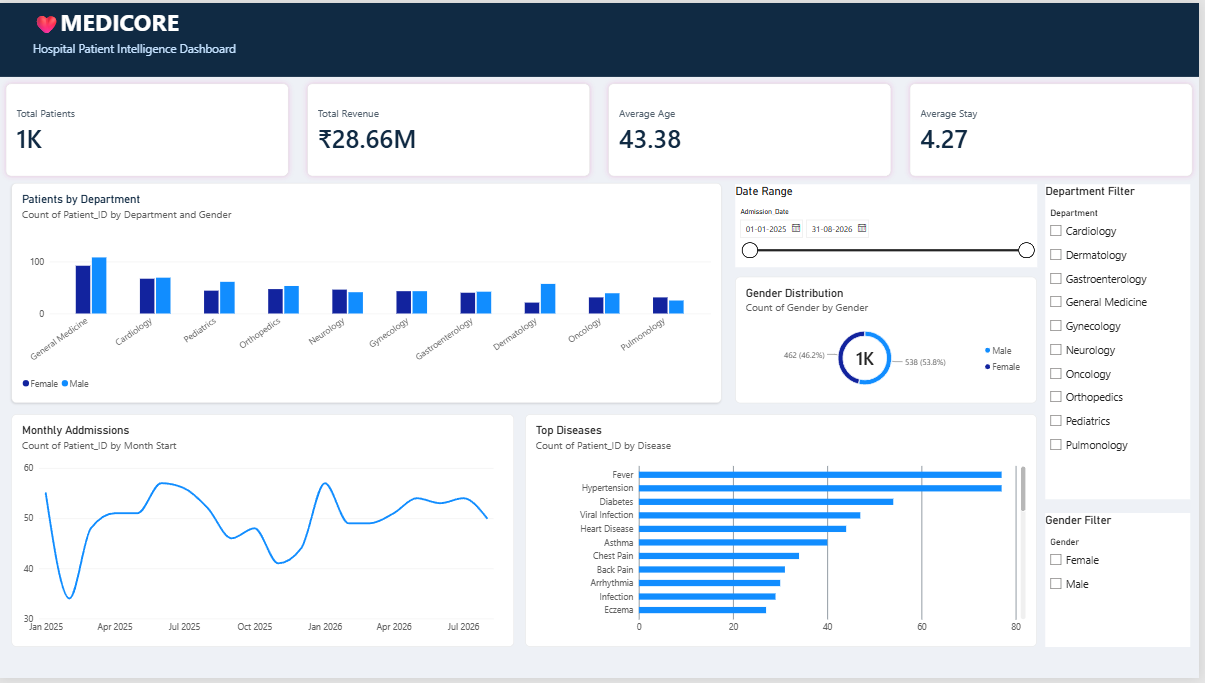

The dashboard page shown, as its layout file describes it:
{"tool":"powerbi","page":{"name":"Page 1","canvas":[1920,1080],"ordinal":0},"visuals":[{"type":"cardVisual","fields":{"Data":["Patients.Total Patients","Patients.Total Revenue","Patients.Average Age","Patients.Average Stay"]},"box":[0,118,1920,170],"z":0},{"type":"clusteredColumnChart","title":"Patients by Department","fields":{"Category":["Patients.Department"],"Series":["Patients.Gender"],"Y":["CountNonNull(Patients.Patient_ID)"]},"box":[20,288,1136,352],"z":1000},{"type":"donutChart","title":"Gender Distribution","fields":{"Category":["Patients.Gender"],"Y":["CountNonNull(Patients.Gender)"]},"box":[1178,438,482,202],"z":2000},{"type":"lineChart","title":"Monthly Addmissions","fields":{"Category":["Patients.Month Start"],"Y":["CountNonNull(Patients.Patient_ID)"]},"box":[20,658,804,372],"z":3000},{"type":"clusteredBarChart","title":"Top Diseases","fields":{"Category":["Patients.Disease"],"Y":["CountNonNull(Patients.Patient_ID)"]},"box":[842,658,818,372],"z":4000},{"type":"slicer","title":"Department Filter","fields":{"Values":["Patients.Department"]},"box":[1674,290,232,504],"z":5000},{"type":"slicer","title":"Gender Filter","fields":{"Values":["Patients.Gender"]},"box":[1674,816,232,214],"z":6000},{"type":"slicer","title":"Date Range","fields":{"Values":["Patients.Admission_Date"]},"box":[1178,290,482,132],"z":7000},{"type":"shape","box":[0,0,1920,118],"z":8000},{"type":"textbox","box":[1754,897,166,150],"z":10000},{"type":"textbox","box":[54,4,534.5,56.4],"z":11000},{"type":"textbox","box":[54,60,565,57.5],"z":12000}]}

Visuals, with their boxes in screenshot pixels (x1, y1, x2, y2), scaled from the page's 1920x1080 canvas onto the 1205x683 screenshot:
cardVisual - Patients.Total Patients x Patients.Total Revenue: bbox=[0, 75, 1204, 182]
"Patients by Department" clusteredColumnChart: bbox=[13, 182, 726, 405]
"Gender Distribution" donutChart: bbox=[739, 277, 1042, 405]
"Monthly Addmissions" lineChart: bbox=[13, 416, 517, 651]
"Top Diseases" clusteredBarChart: bbox=[528, 416, 1042, 651]
"Department Filter" slicer: bbox=[1051, 183, 1196, 502]
"Gender Filter" slicer: bbox=[1051, 516, 1196, 651]
"Date Range" slicer: bbox=[739, 183, 1042, 267]
shape: bbox=[0, 0, 1204, 75]
textbox: bbox=[1101, 567, 1204, 662]
textbox: bbox=[34, 3, 369, 38]
textbox: bbox=[34, 38, 388, 74]
